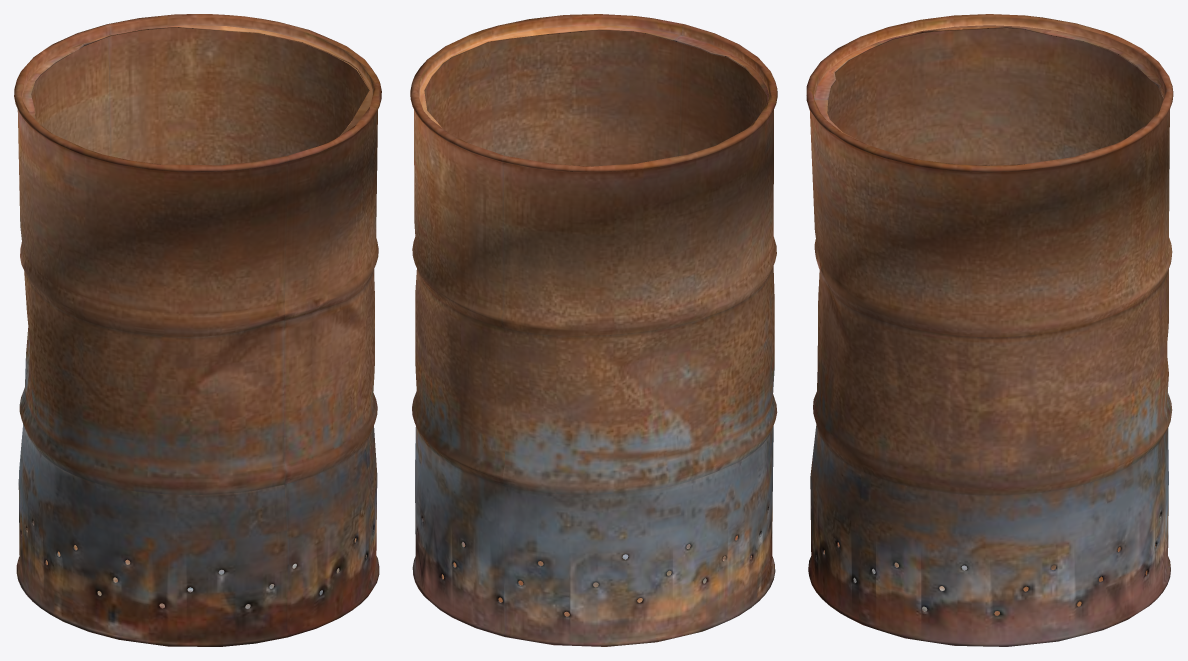
File: stove-barrel.12b8896e.glb
3 renders of one model, left to right at view 1: azimuth 30°, elevation 25°; view 2: azimuth 150°, elevation 25°; view 3: azimuth 270°, elevation 25°, orthographic.
Visible parts, largest first — view 1: model; view 2: model; view 3: model.
Part boxes in pixels (bbox=[...]): model: bbox=[14, 14, 381, 646]; model: bbox=[410, 14, 777, 646]; model: bbox=[806, 14, 1173, 646].
Bounding box in the file's own units: 0.5926 × 0.8556 × 0.5914.
Materials: 1 (1 with a texture image).
